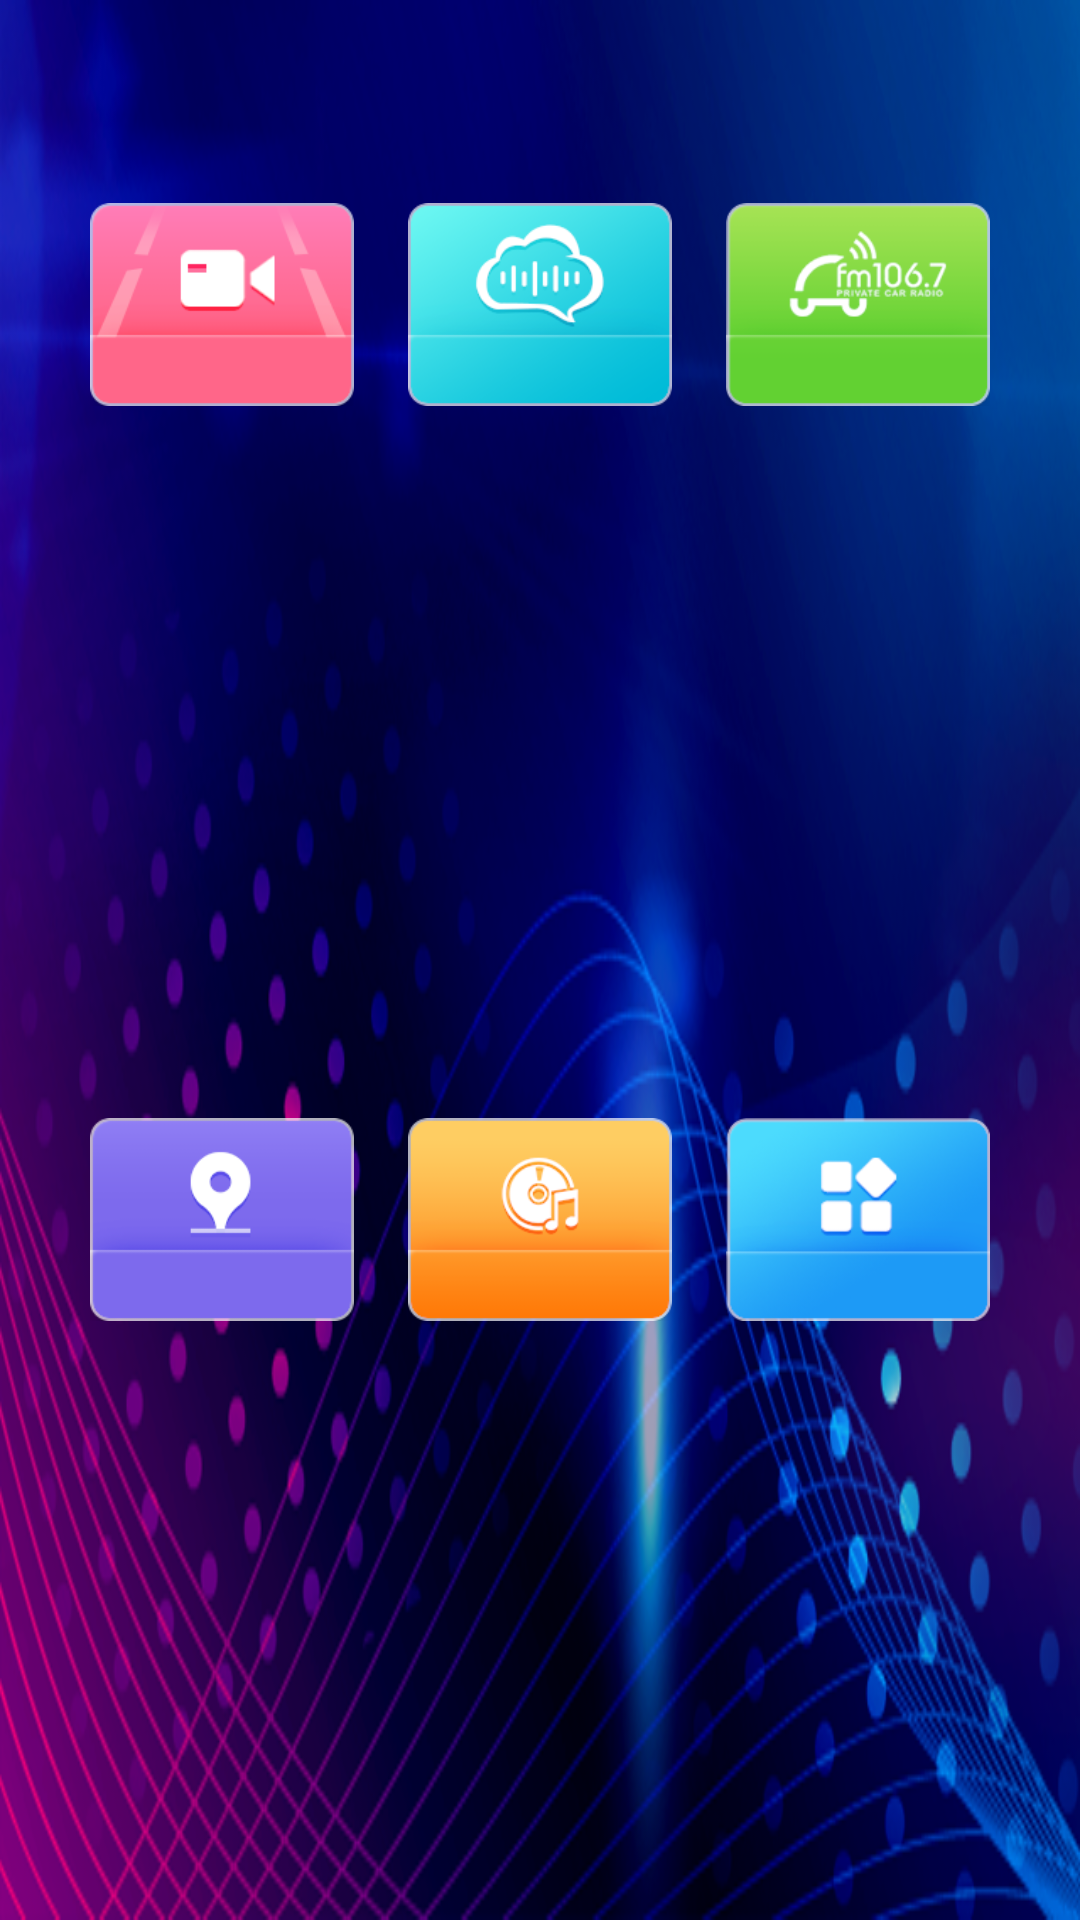

Locate icon controls on the screen. Image size 1080×1920, boxes as (x1, y1, x2, y2).
cloud: (408, 203, 672, 519)
